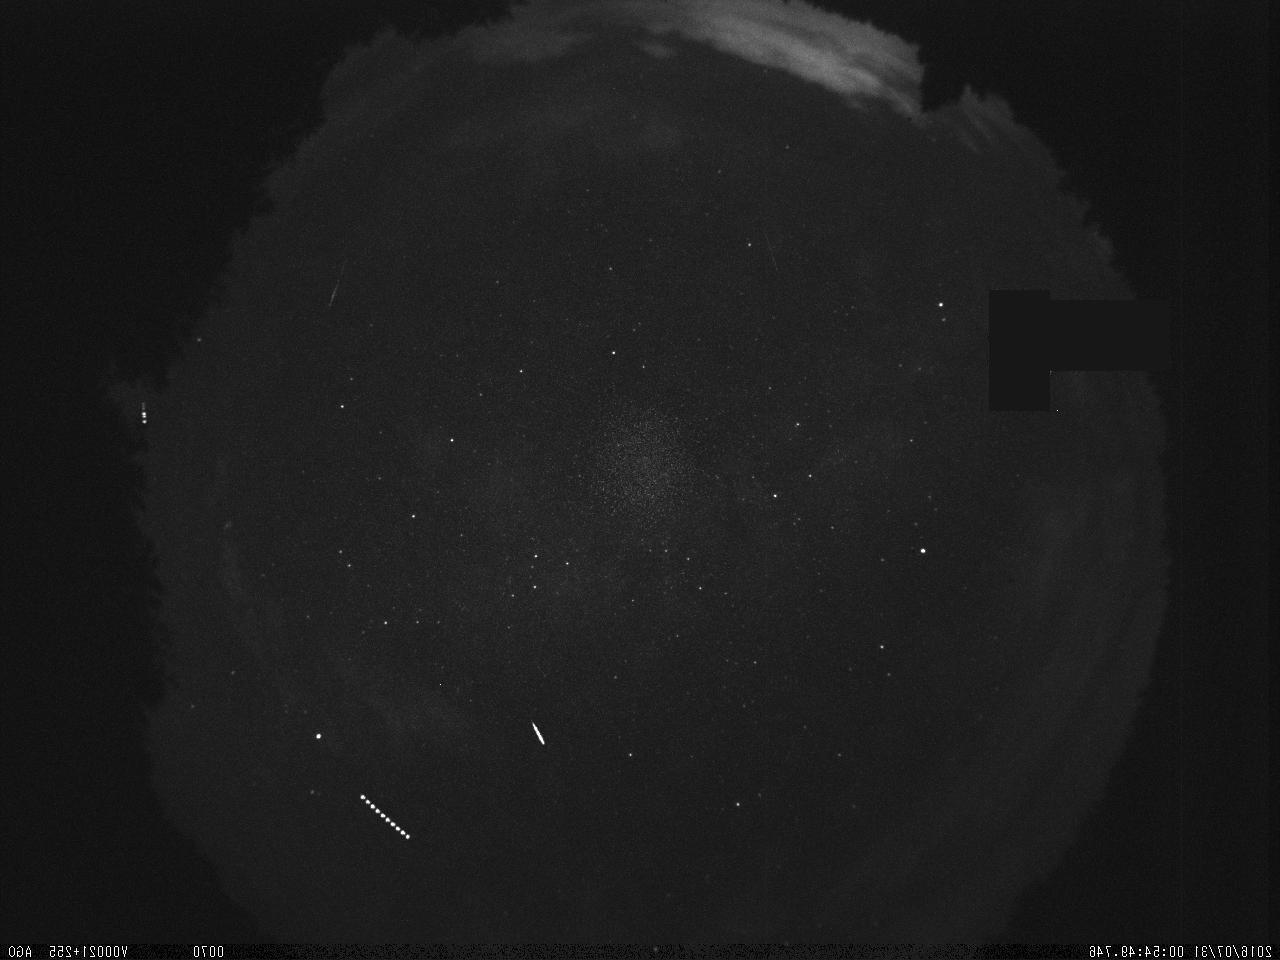meteor: (526, 713, 550, 751)
satelite: (351, 784, 419, 848), (137, 399, 152, 433)
